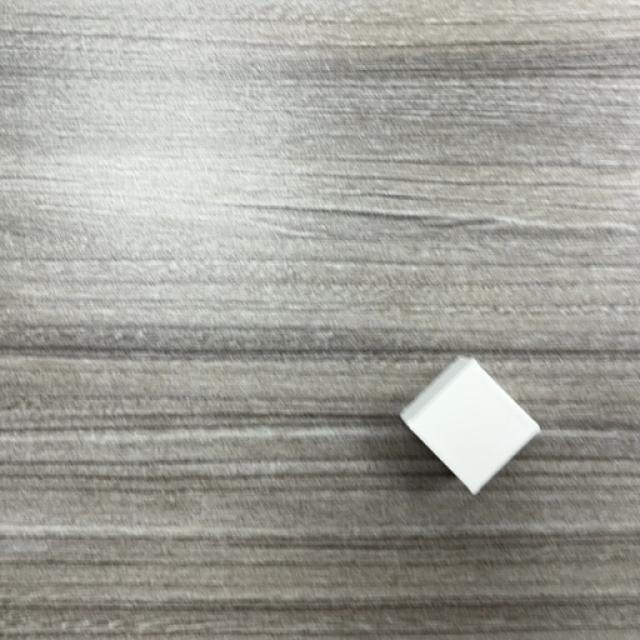Blanco: (400, 358, 540, 496)
